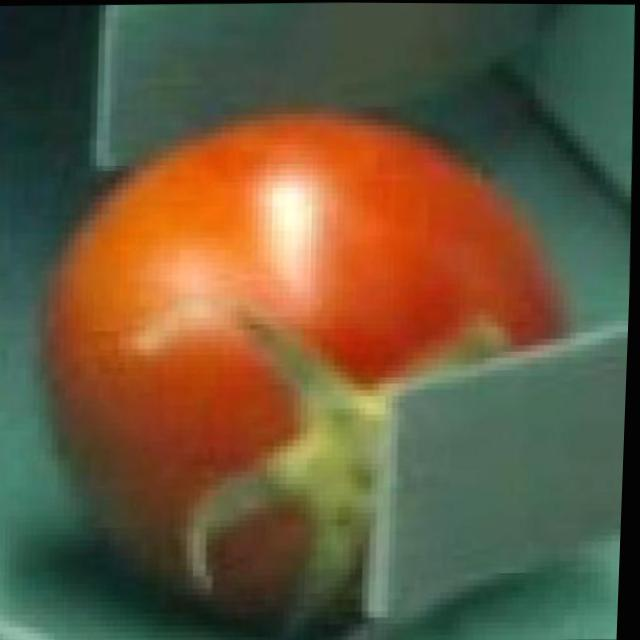tomato: (20, 93, 585, 625)
